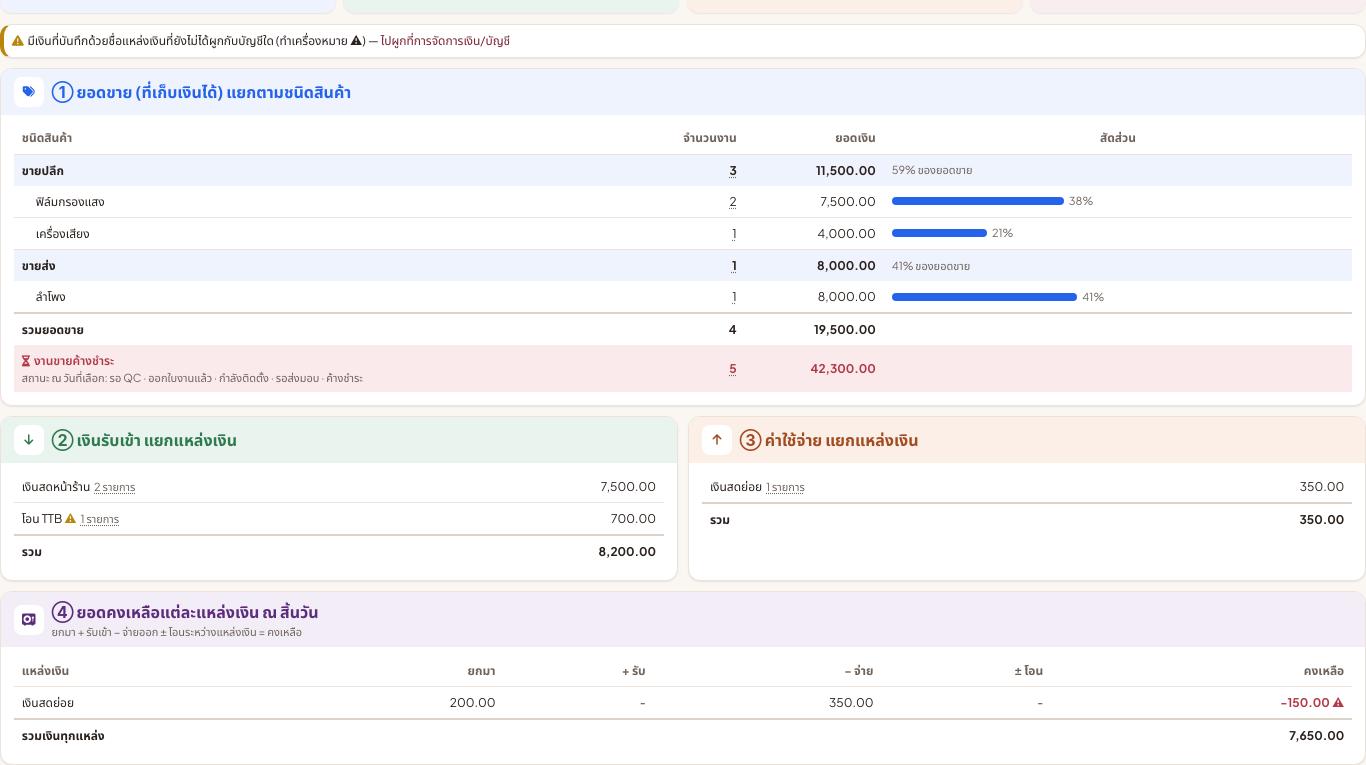
Test: DailyReportView — ที่มาของจำนวน › จำนวนรายการของแต่ละแหล่งเงิน บอกว่าเงินก้อนไหนบ้าง
(page scrolled)
Click the button with aria-label "ดูที่มาของ2 รายการของ เงินสดหน้าร้าน": x=115, y=486 [94,478,135,494]
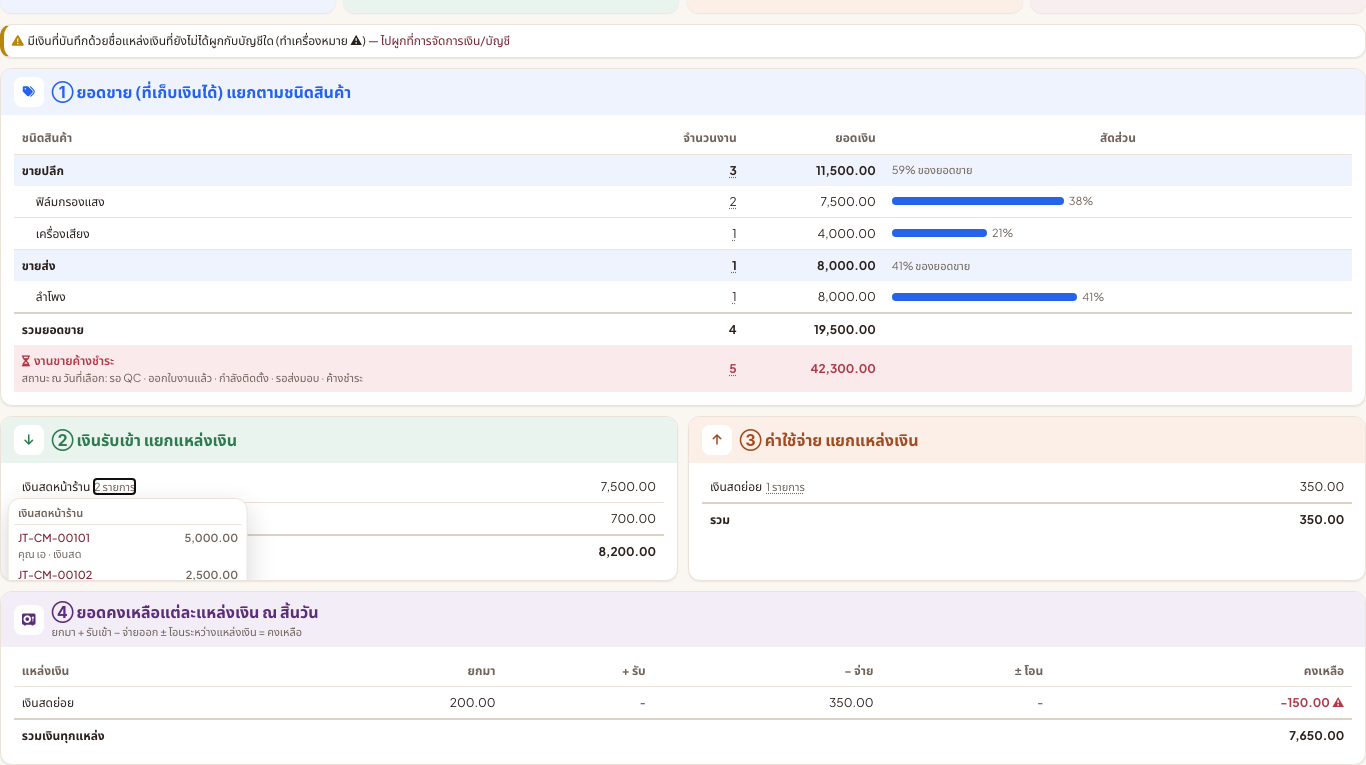
Expected: the text "คุณ เอ · เงินสด" is shown, [18,546,90,562]
